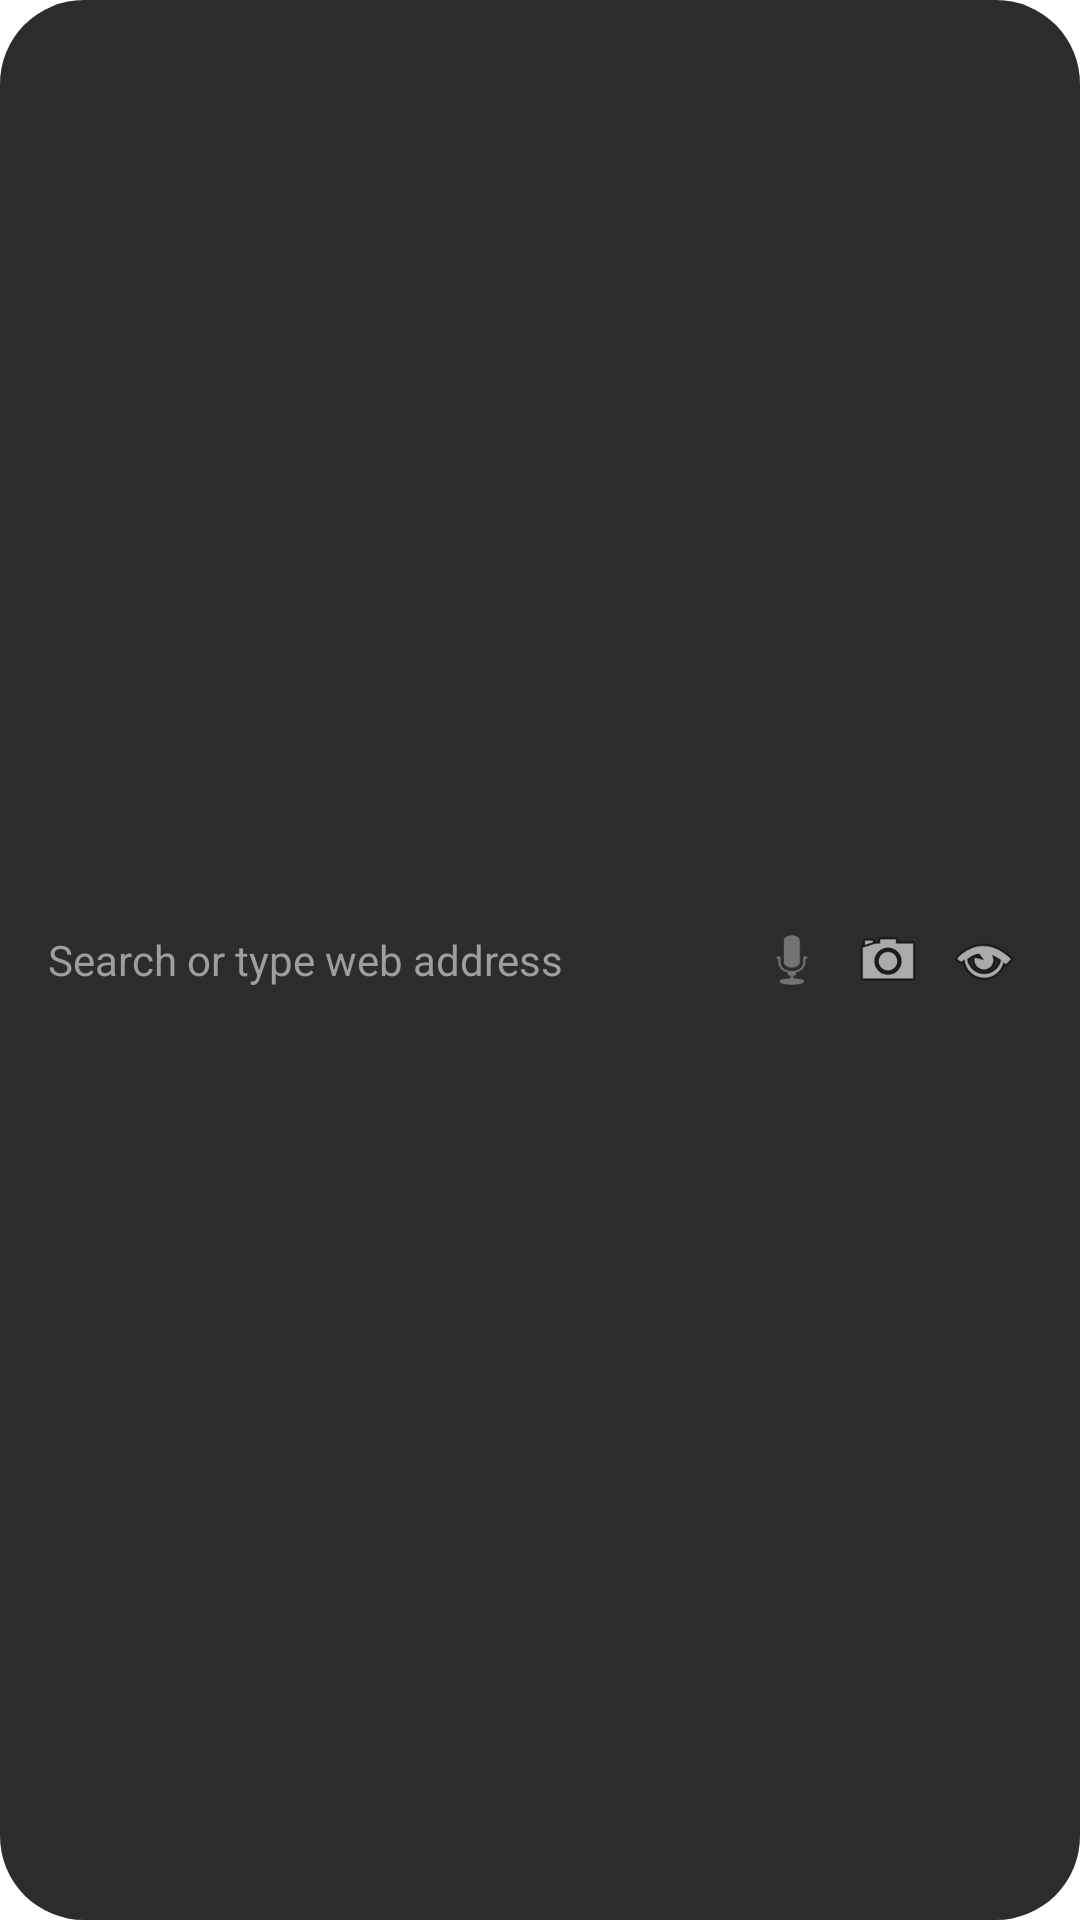

Icons on this 1080px×1920px Android screen, each with its box as (x1, y1, x2, y2):
Voice Search: (777, 935, 807, 985)
